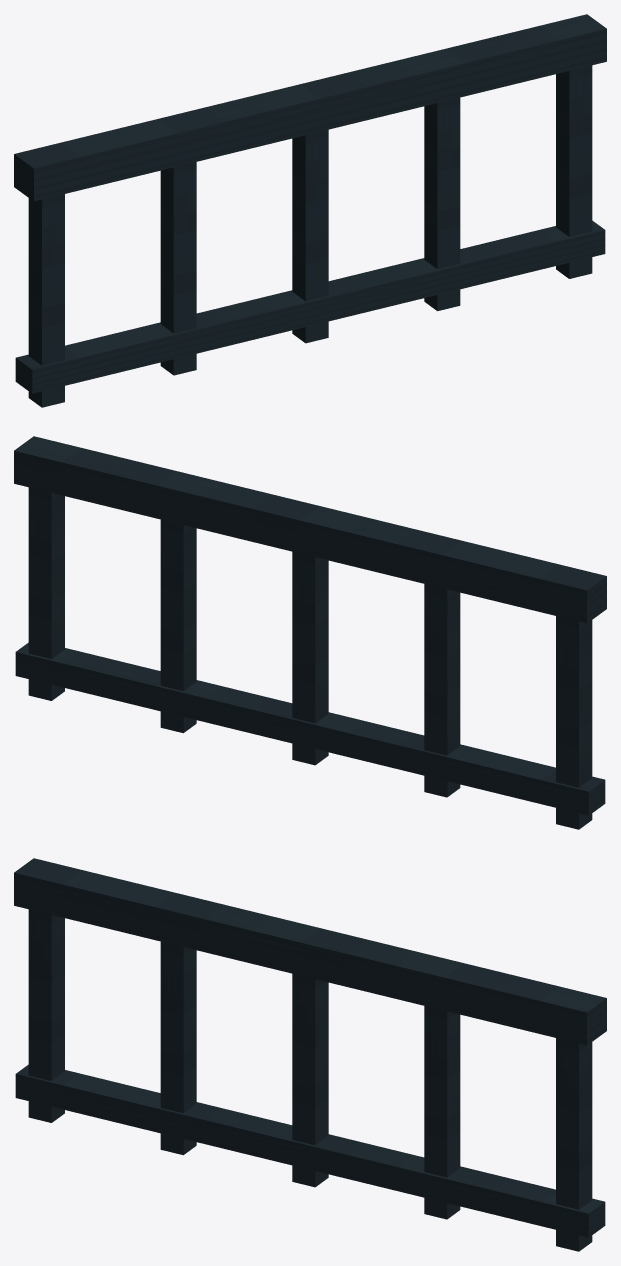
Rendered from bp_decorrailing.glb.
3 renders of one model, top to bottom at view 1: azimuth 30°, elevation 25°; view 2: azimuth 150°, elevation 25°; view 3: azimuth 330°, elevation 25°, orthographic.
Visible parts, largest first — view 1: TopRail, BottomRail, Post, Post.004, Post.003, Post.002, Post.001; view 2: TopRail, BottomRail, Post, Post.004, Post.003, Post.002, Post.001; view 3: TopRail, BottomRail, Post.004, Post, Post.001, Post.002, Post.003.
Boxes of the visible parts, x1,y1,x2,y2 form: TopRail: [14, 14, 606, 201]; BottomRail: [15, 220, 605, 393]; Post: [28, 194, 64, 407]; Post.004: [556, 65, 592, 278]; Post.003: [424, 97, 460, 311]; Post.002: [292, 129, 328, 343]; Post.001: [160, 162, 196, 375]; TopRail: [14, 436, 606, 623]; BottomRail: [15, 642, 605, 815]; Post: [556, 616, 592, 829]; Post.004: [28, 487, 64, 700]; Post.003: [160, 519, 196, 733]; Post.002: [292, 551, 328, 765]; Post.001: [424, 584, 460, 797]; TopRail: [14, 858, 606, 1045]; BottomRail: [15, 1064, 605, 1237]; Post.004: [556, 1038, 592, 1251]; Post: [28, 909, 64, 1122]; Post.001: [160, 941, 196, 1155]; Post.002: [292, 973, 328, 1187]; Post.003: [424, 1006, 460, 1219].
Size of the model in its own units: 2 by 0.8151 by 0.1199.
1 material, 1 textured.
